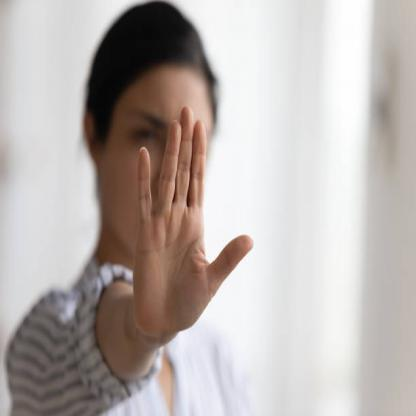stop: (130, 103, 255, 345)
